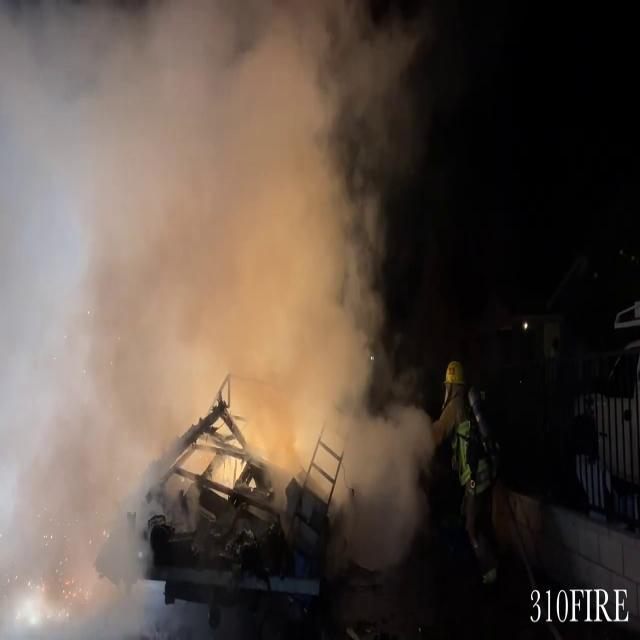Smoke: (1, 0, 432, 618)
